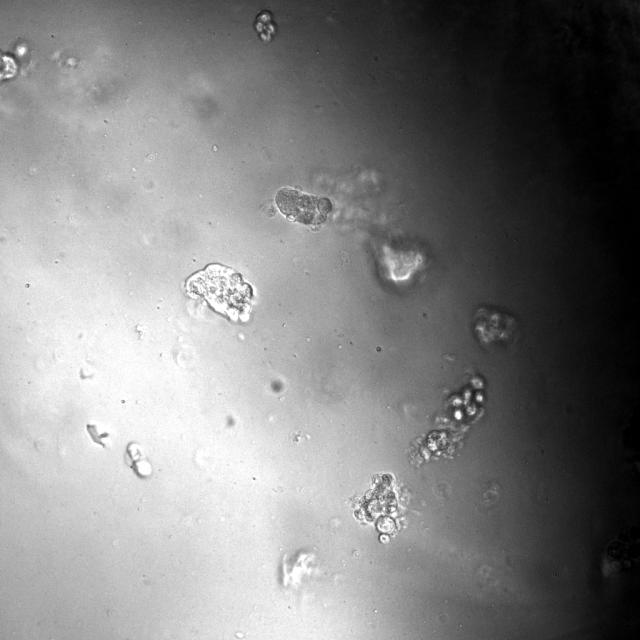organoid: (409, 374, 486, 465), (182, 263, 254, 323), (352, 473, 408, 544), (371, 235, 432, 292), (276, 187, 331, 230), (472, 307, 516, 345), (0, 38, 32, 82), (124, 441, 152, 477), (253, 10, 276, 43)
